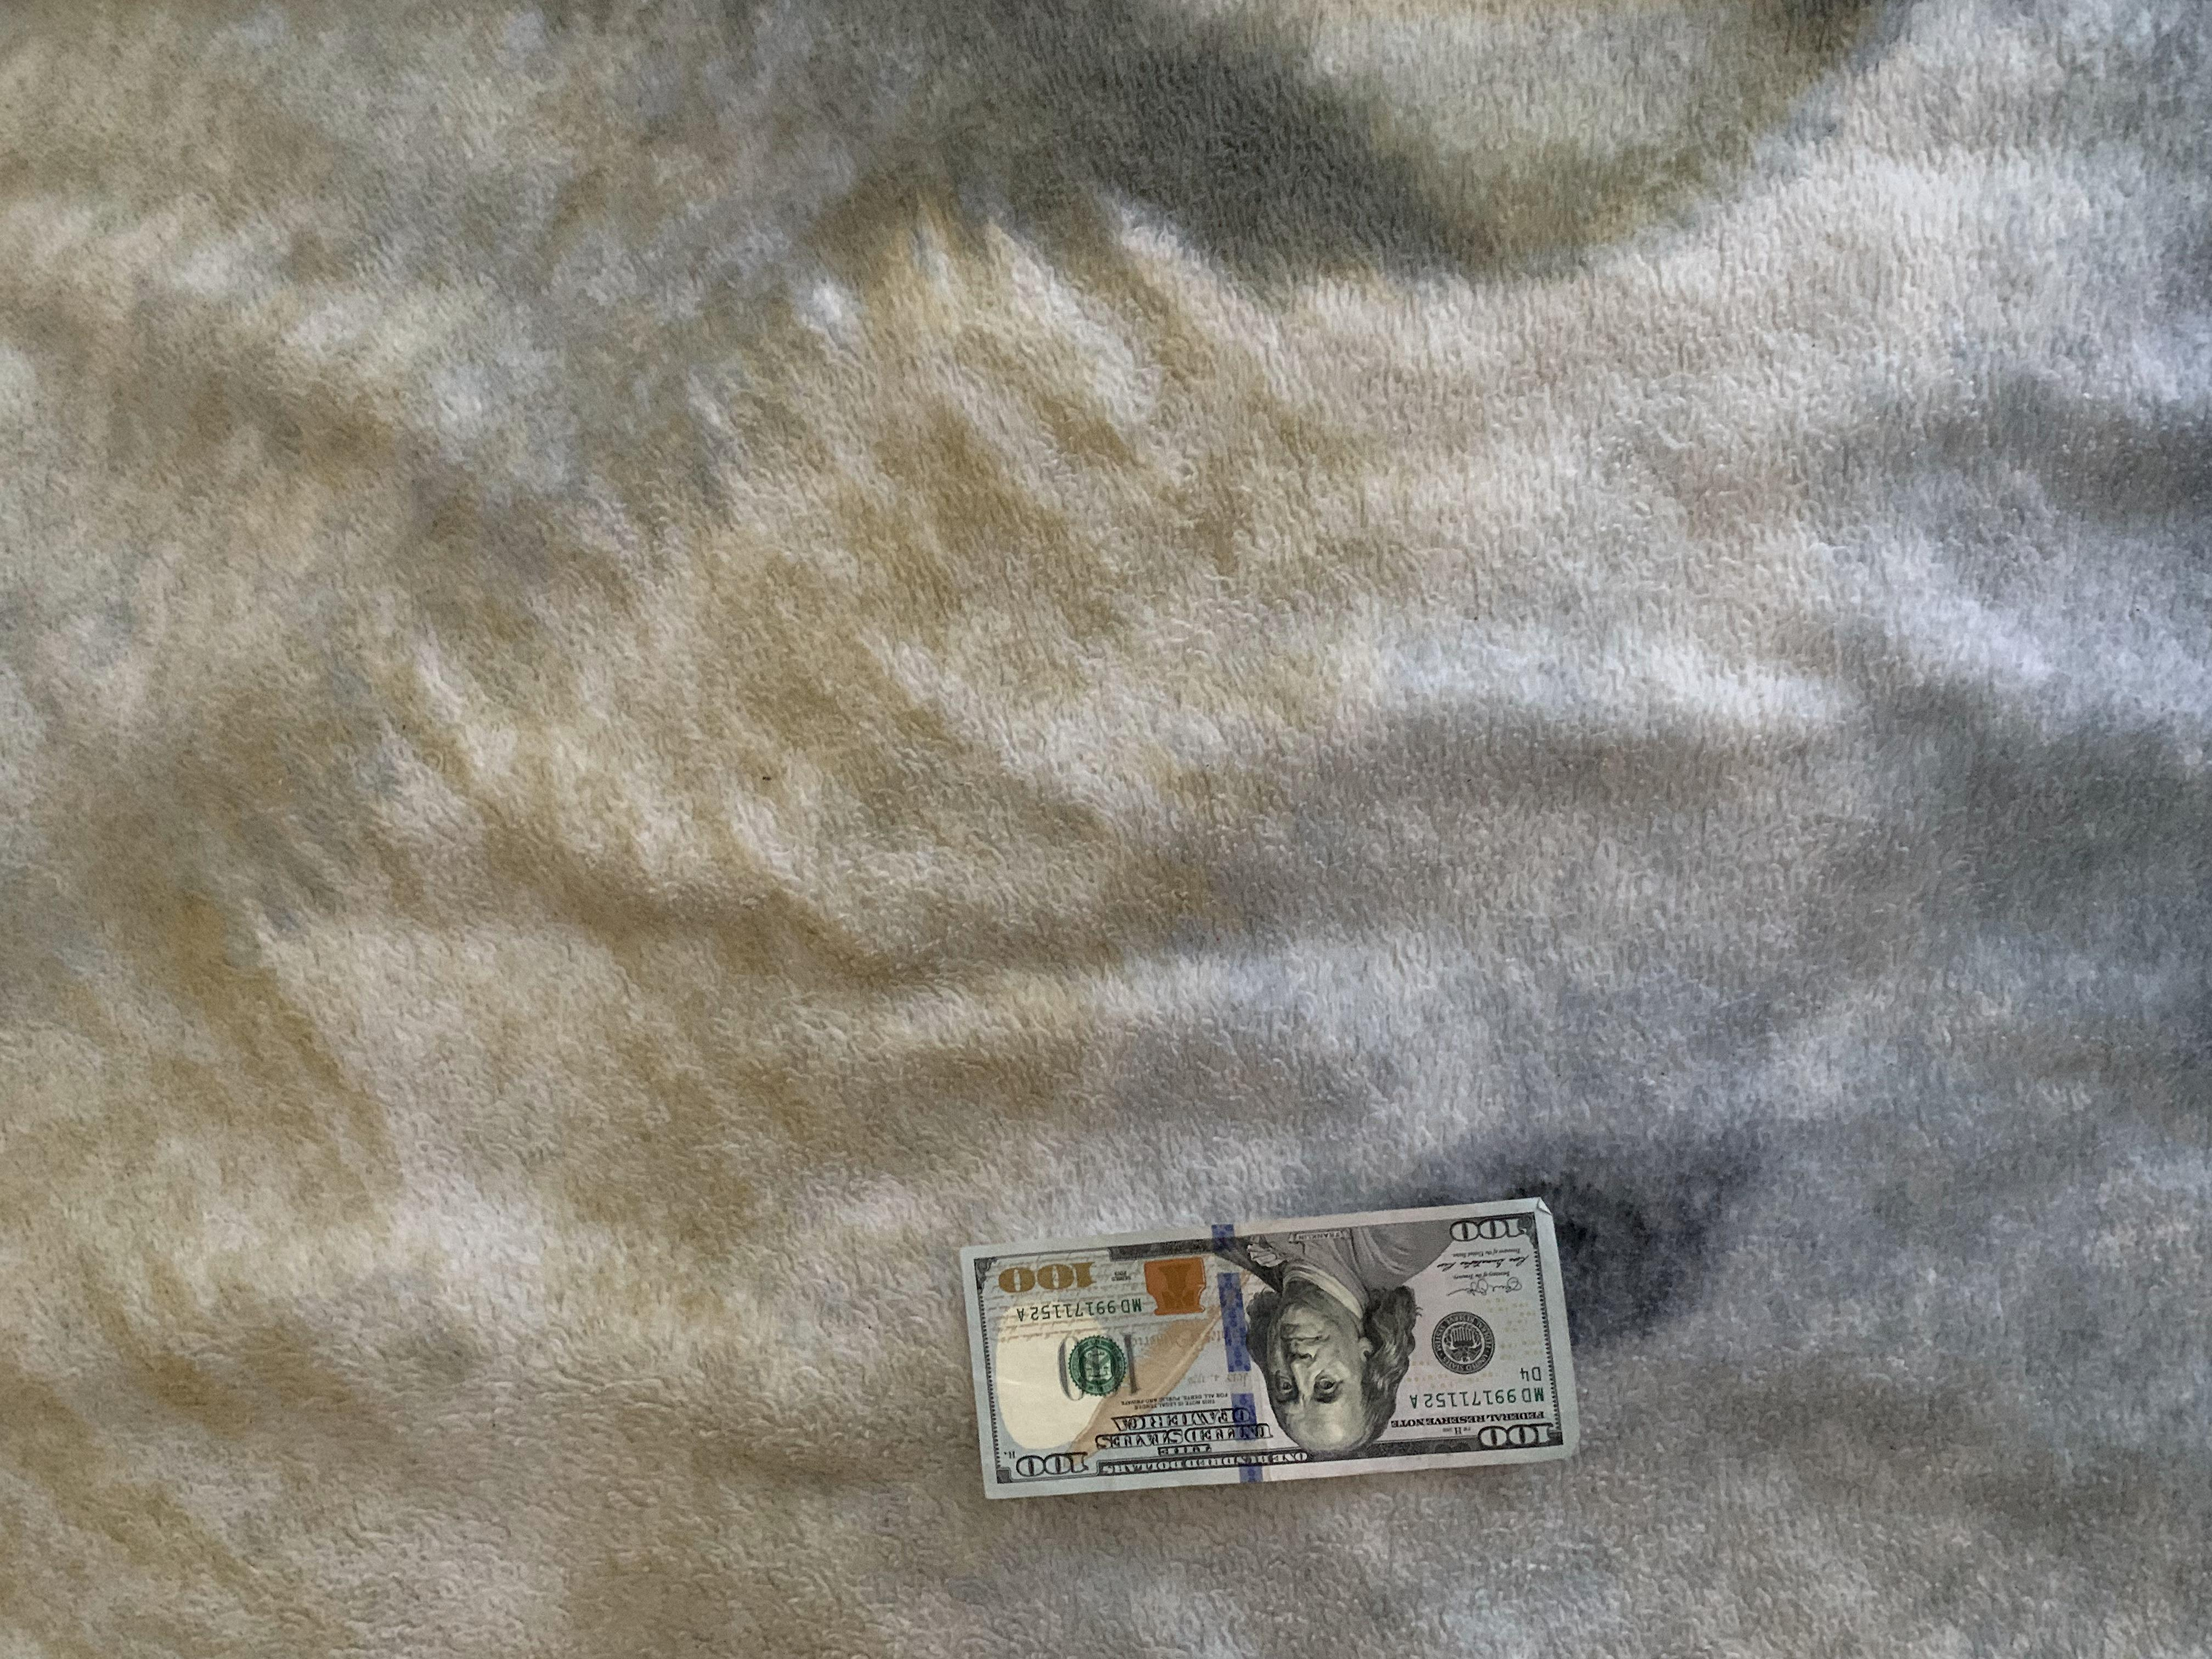HundredBill: (958, 1197, 1585, 1506)
